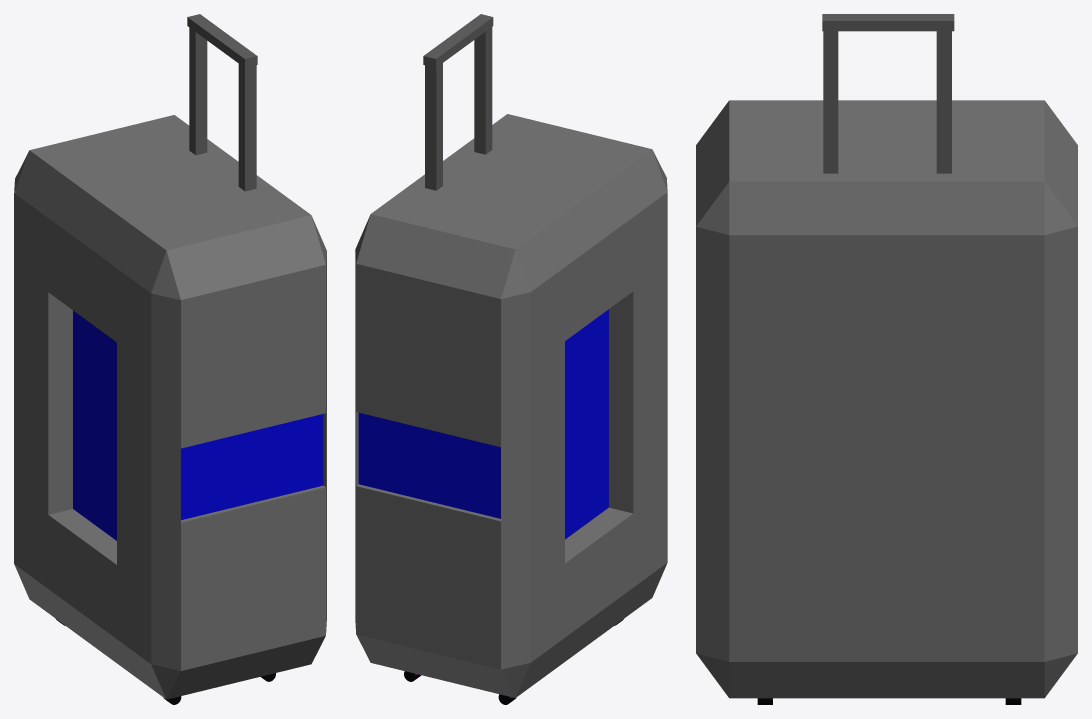
The model's file is luggage2.fbx.
The picture shows the model from 3 angles, left to right: view 1: azimuth 30°, elevation 25°; view 2: azimuth 150°, elevation 25°; view 3: azimuth 270°, elevation 25°; orthographic projection. The views are drawn at different scales.
Visible parts, largest first — view 1: Cube.001; view 2: Cube.001; view 3: Cube.001.
Part boxes in pixels (x1=…): Cube.001: x1=14, y1=14, x2=326, y2=704; Cube.001: x1=355, y1=14, x2=667, y2=704; Cube.001: x1=696, y1=14, x2=1077, y2=704.
Bounding box in the file's own units: 353 × 1154 × 577.
